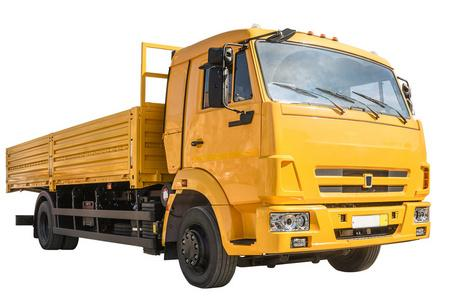卡车: (4, 23, 440, 289)
